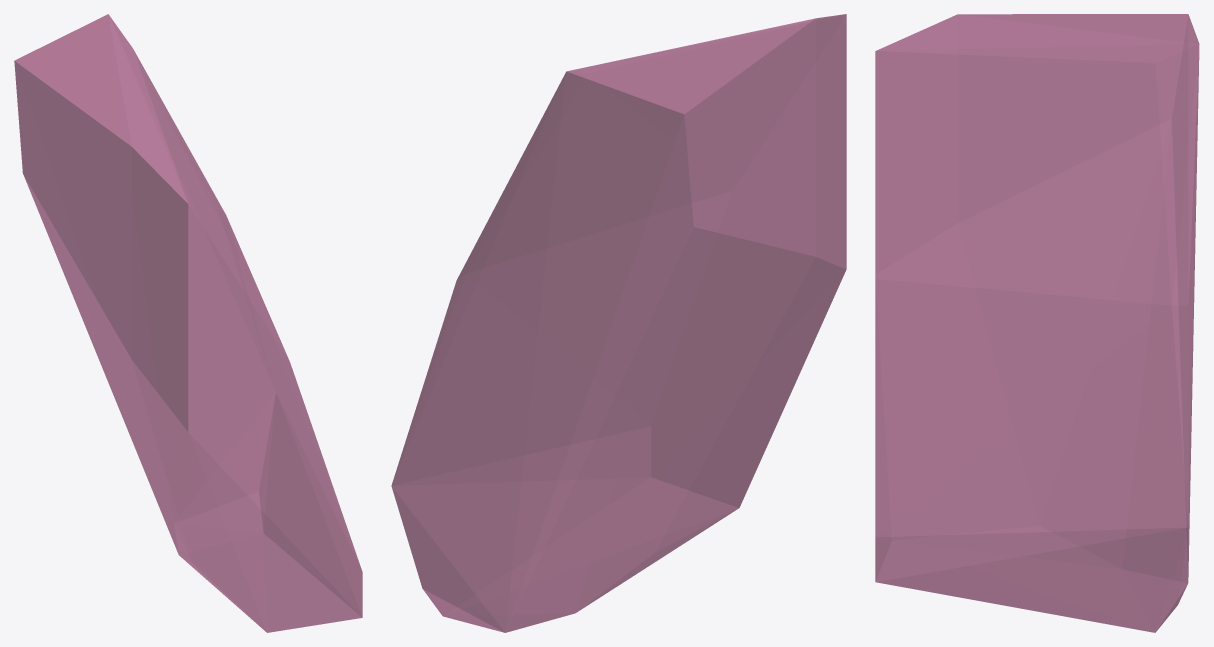
3 views of the same model, side by side, from view 1: azimuth 30°, elevation 25°; view 2: azimuth 150°, elevation 25°; view 3: azimuth 270°, elevation 25° (orthographic). The views are drawn at different scales.
Visible parts, largest first — view 1: Shape_IndexedFaceSet.037_Shape_IndexedFaceSet.4383; view 2: Shape_IndexedFaceSet.037_Shape_IndexedFaceSet.4383; view 3: Shape_IndexedFaceSet.037_Shape_IndexedFaceSet.4383.
Part boxes in pixels (left/top/right/bottom): Shape_IndexedFaceSet.037_Shape_IndexedFaceSet.4383: left=14, top=14, right=362, bottom=632; Shape_IndexedFaceSet.037_Shape_IndexedFaceSet.4383: left=391, top=14, right=846, bottom=632; Shape_IndexedFaceSet.037_Shape_IndexedFaceSet.4383: left=875, top=14, right=1199, bottom=632.
Size of the model in its own units: 0.1151 by 0.225 by 0.1257.
